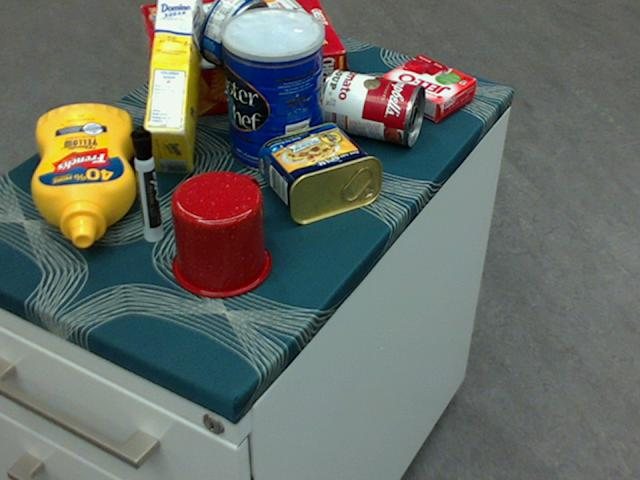cracker_box: (142, 0, 345, 120)
gelatin_box: (379, 56, 476, 120)
large_marker: (128, 126, 163, 240)
master_chef_can: (221, 6, 324, 174)
mug: (170, 169, 271, 297)
mustard_bottle: (30, 104, 134, 247)
potted_meat_can: (257, 120, 382, 225)
sugar_box: (144, 0, 204, 173)
tomato_soup_can: (319, 68, 426, 145)
tuna_fish_can: (198, 0, 272, 71)
